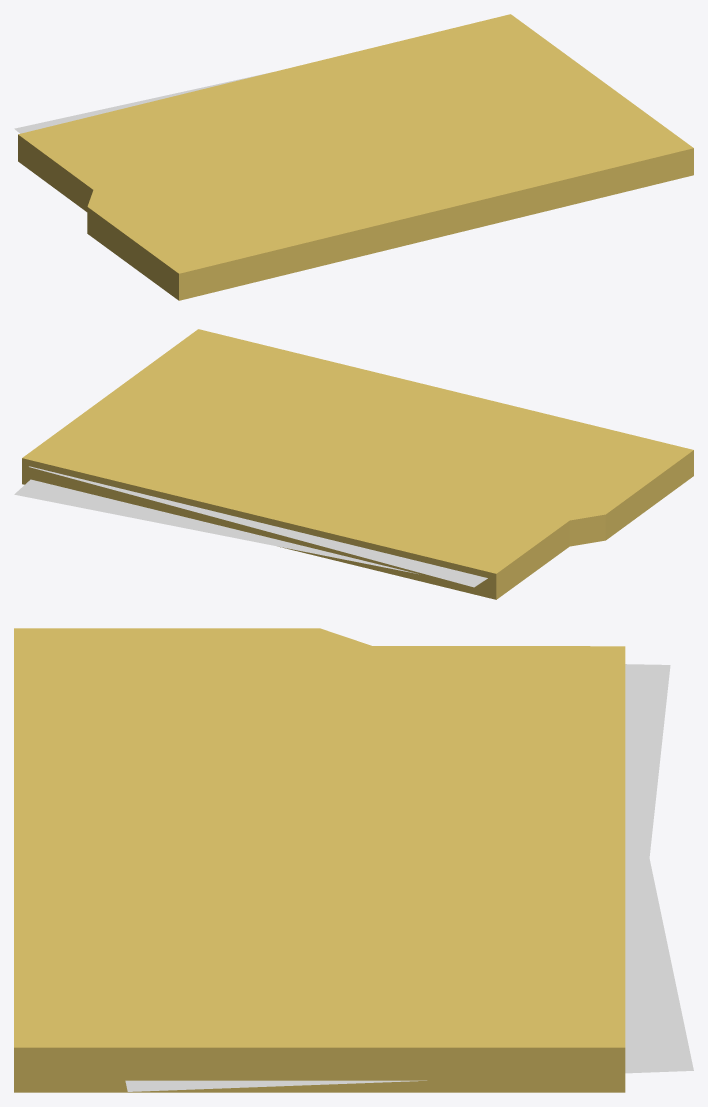
Rendered from FolderModel.fbx.
The picture shows the model from 3 angles, top to bottom: view 1: azimuth 30°, elevation 25°; view 2: azimuth 150°, elevation 25°; view 3: azimuth 270°, elevation 25°; orthographic projection. The views are drawn at different scales.
Parts seen in each view (by area): view 1: Cube; view 2: Cube; view 3: Cube.
Part boxes in pixels (left/top/right/bottom): Cube: left=14, top=14, right=693, bottom=300; Cube: left=14, top=329, right=693, bottom=599; Cube: left=14, top=628, right=693, bottom=1092.
Size of the model in its own units: 189 by 9.24 by 126.
